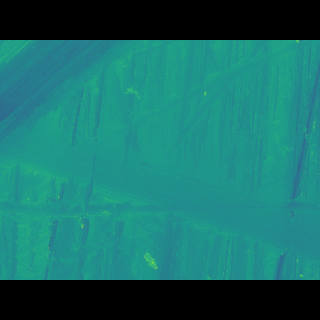Loch: (0, 69, 320, 239)
